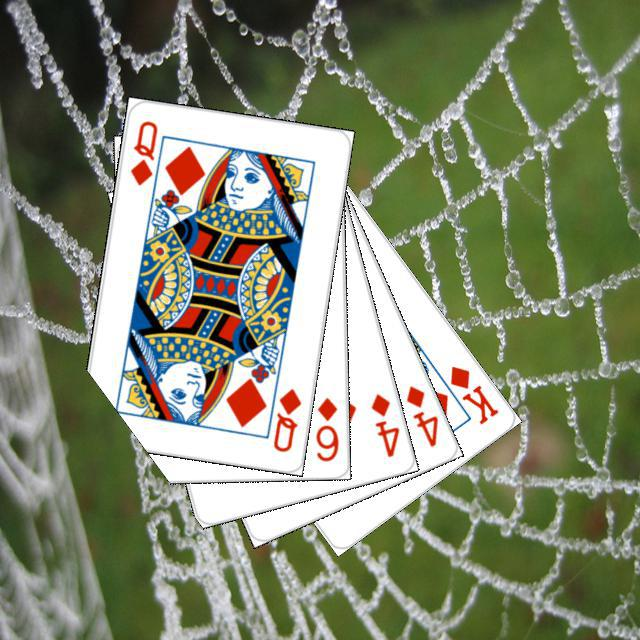4d: (401, 380, 440, 449), (366, 388, 401, 459)
6d: (311, 392, 340, 463)
Kd: (444, 361, 501, 427)
Qd: (268, 384, 303, 454), (125, 116, 159, 188)
